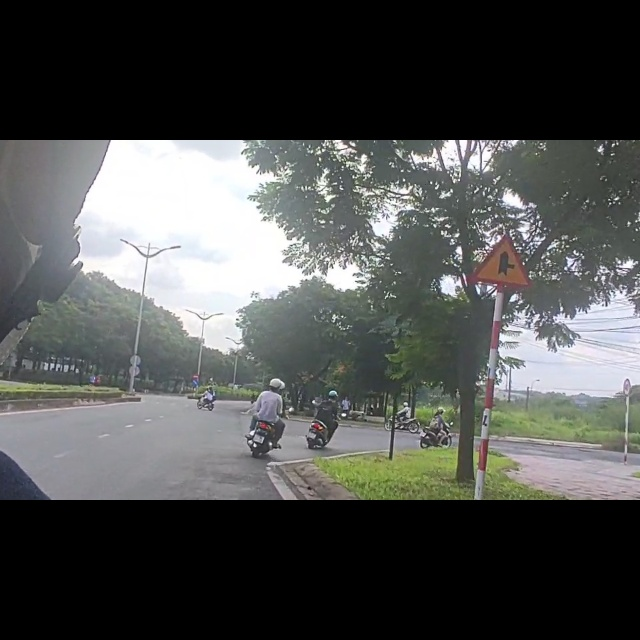Giao nhau với đường không ưu tiên: (471, 233, 534, 290)
